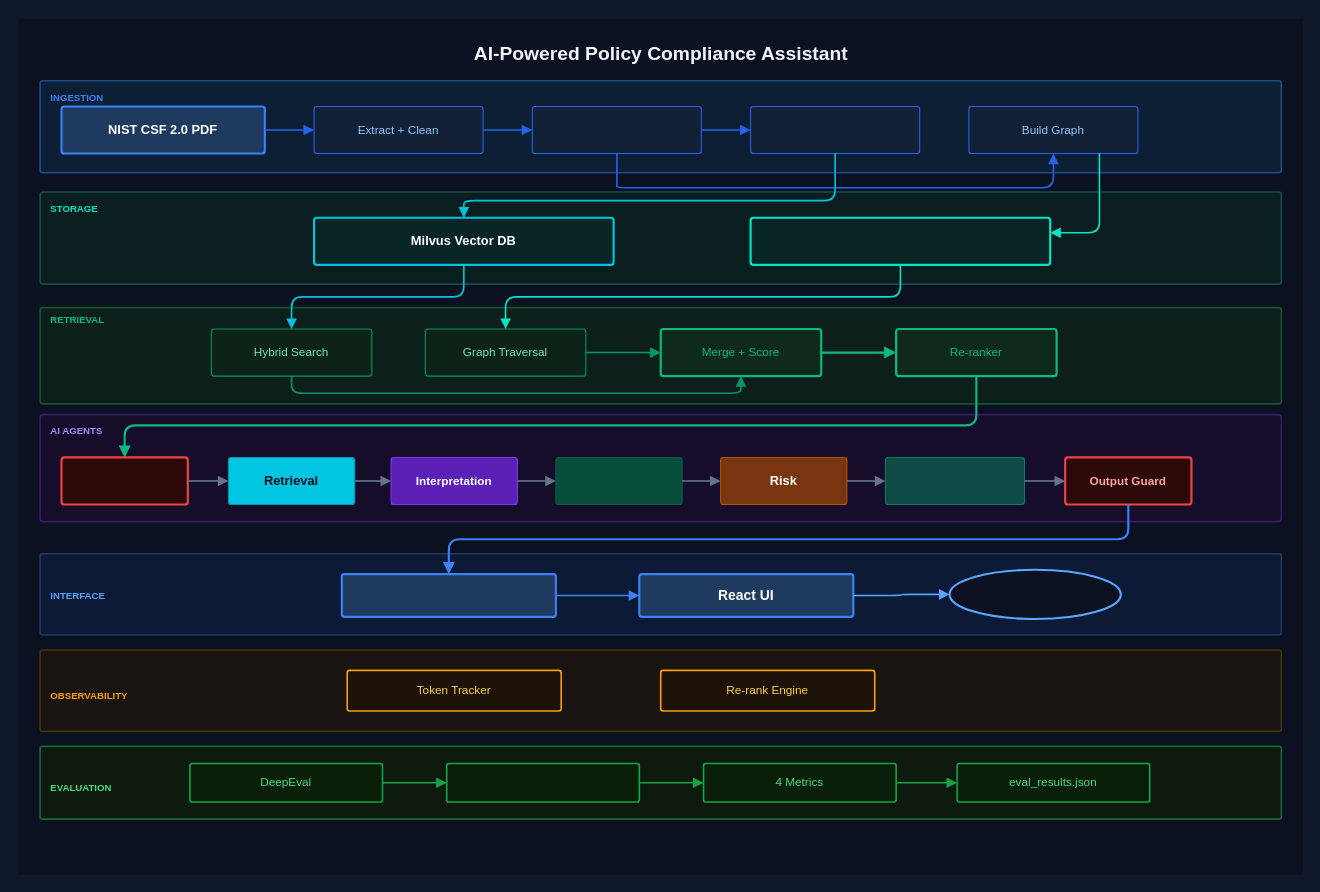
Some shapes in this 1320 by 892 pixel diagram are drawn without their labels. Here are the shapes that lost their labels. From the top down, the box of each, then its label:
(531, 105, 701, 154): Chunking
(750, 105, 920, 154): Embedding
(749, 216, 1051, 265): Neo4j Knowledge Graph
(60, 456, 188, 505): Input Guard
(555, 456, 682, 505): Compliance
(884, 456, 1025, 505): Recommendation
(340, 572, 556, 617): FastAPI
(948, 568, 1121, 620): Employee
(445, 762, 640, 802): 20 Test Cases
